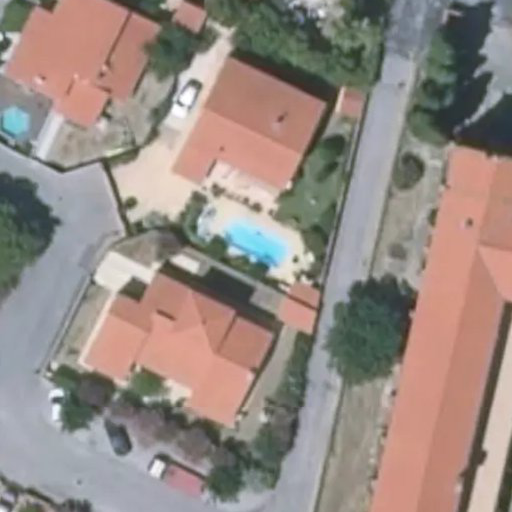pool: (219, 237, 289, 244)
